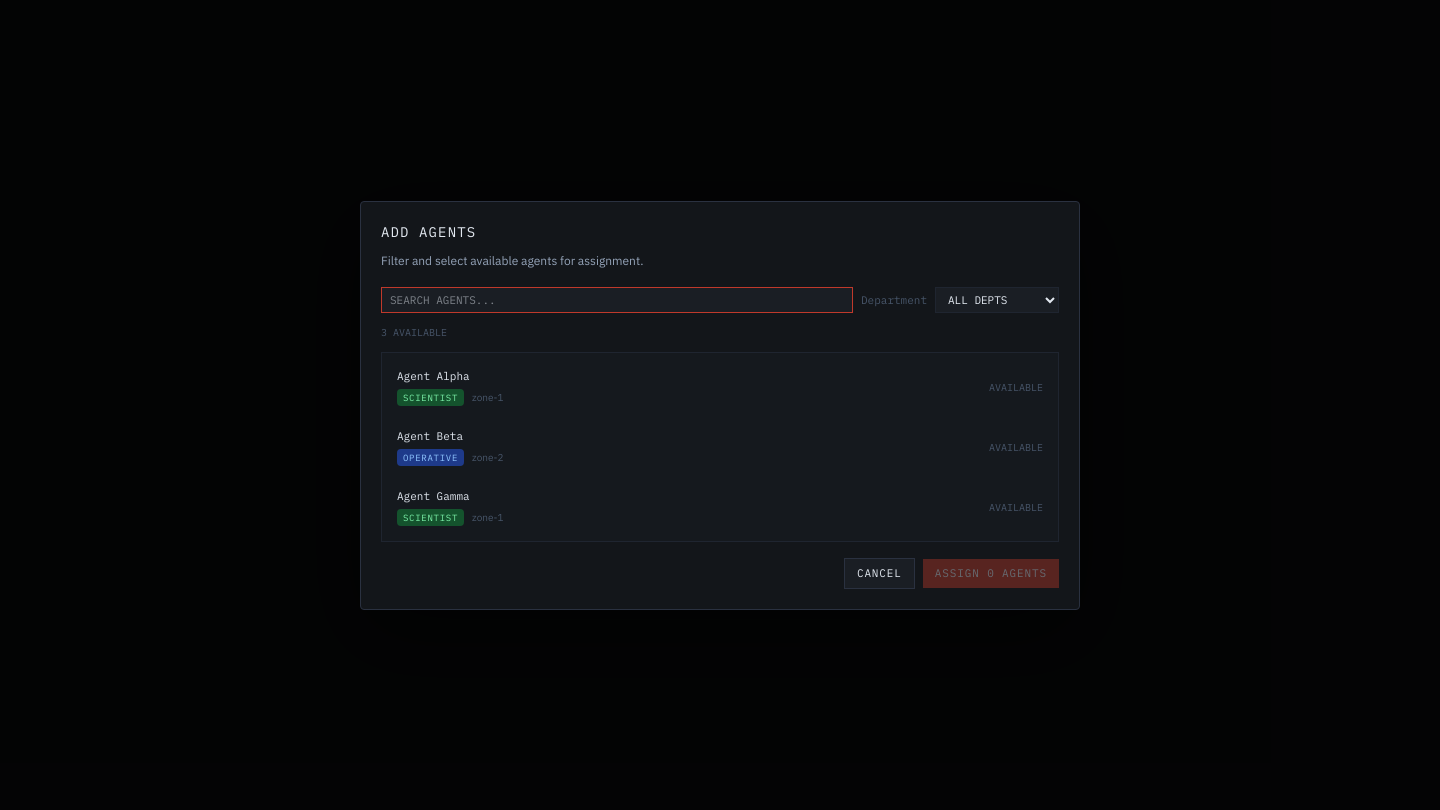
Test case: AgentPicker › filters by text and department
The width and height of the screenshot is (1440, 810).
Step 1. Type "Gamma" into the field with placeholder "SEARCH AGENTS..." → [617, 300], box [381,286,853,313]
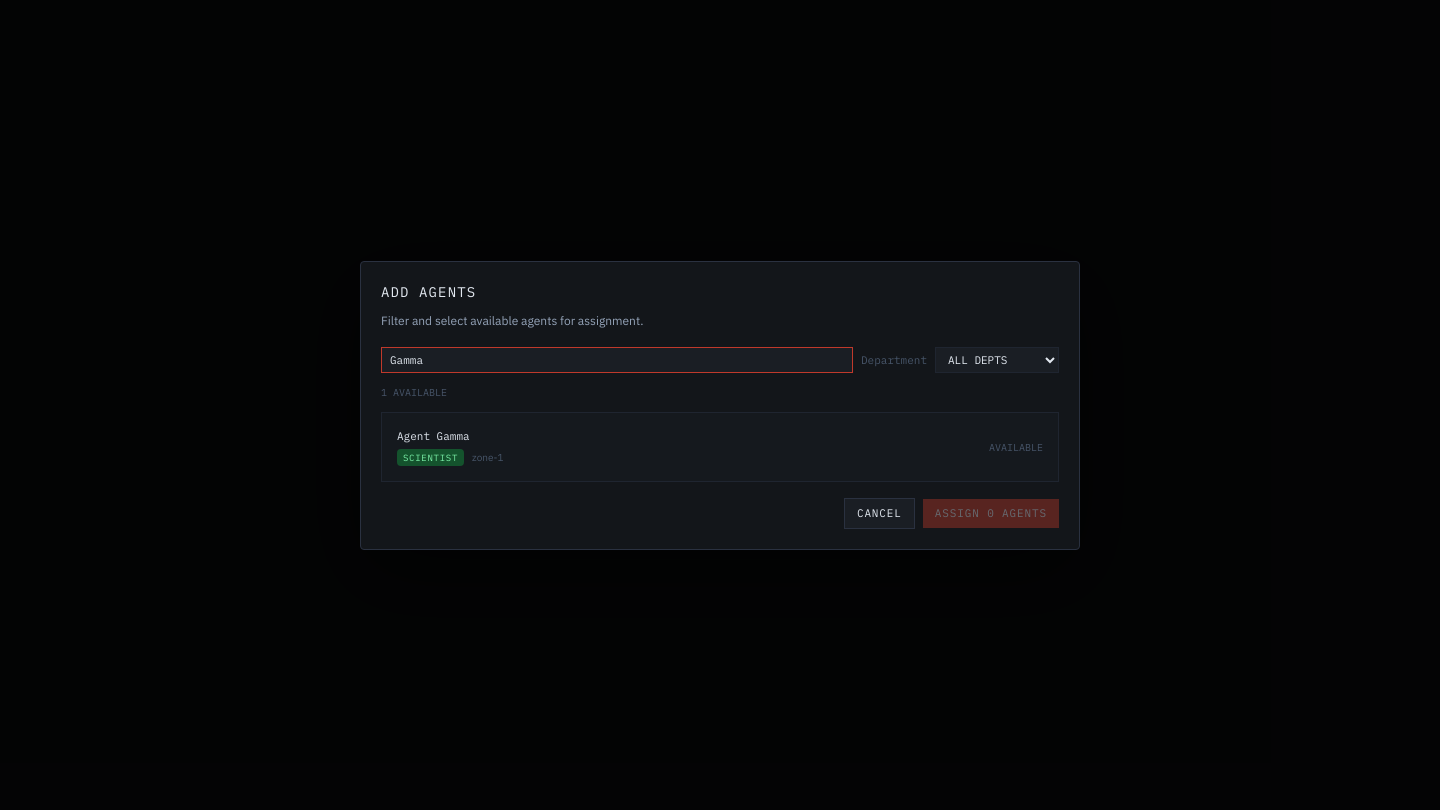
Expected: the button "Agent Gamma SCIENTIST zone-1 AVAILABLE" is shown, [388,419,1052,475]
Expected: the button "Agent Alpha" is gone
Step 2. Clear the field with placeholder "SEARCH AGENTS..." → [617, 360], box [381,346,853,373]
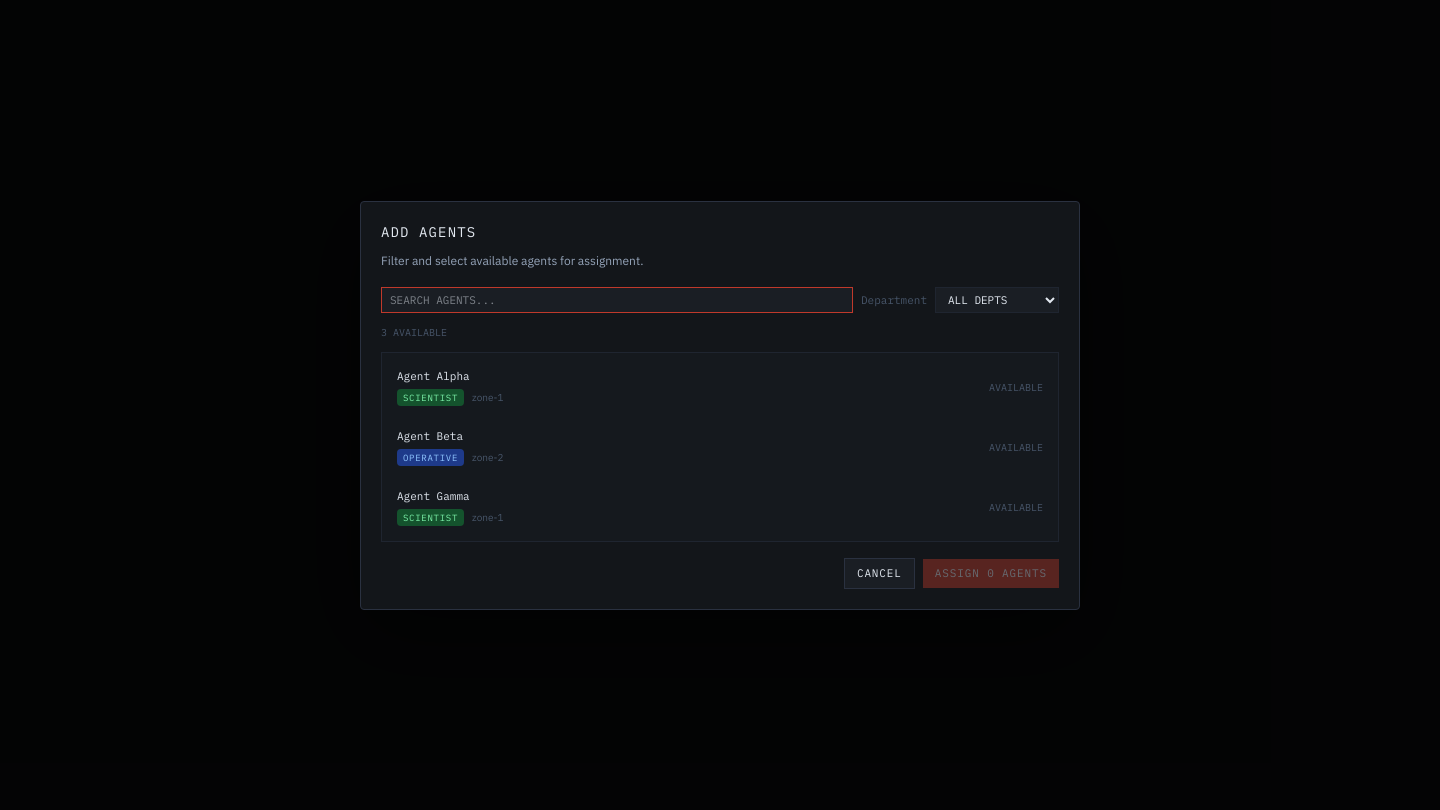
Step 3. Select "SCIENTIST" in the dropdown labelled "Department" → [997, 300], box [935,287,1059,313]
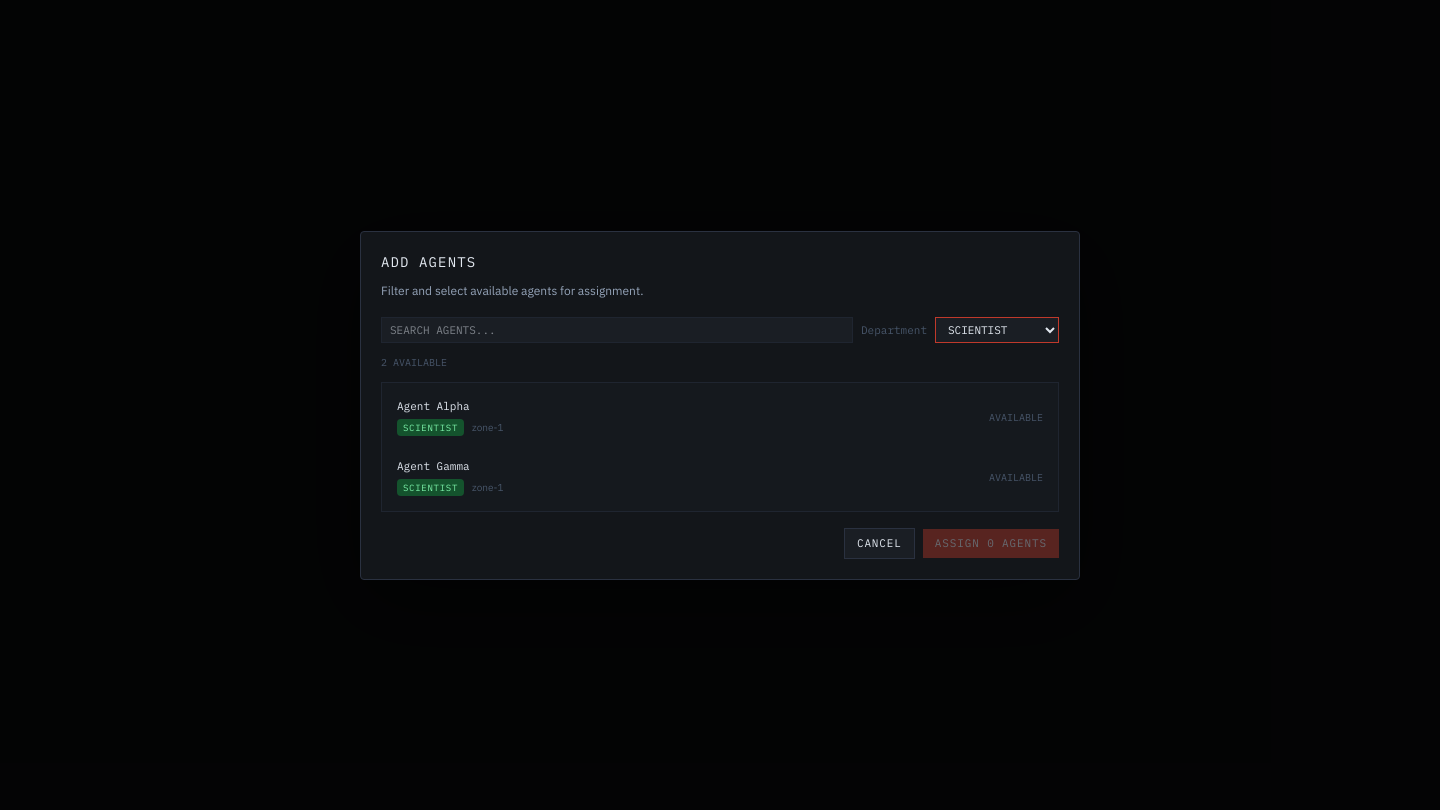
Expected: the button "Agent Gamma SCIENTIST zone-1 AVAILABLE" is shown, [388,449,1052,505]
Expected: the button "Agent Alpha SCIENTIST zone-1 AVAILABLE" is shown, [388,389,1052,445]
Expected: the button "Agent Beta" is gone
